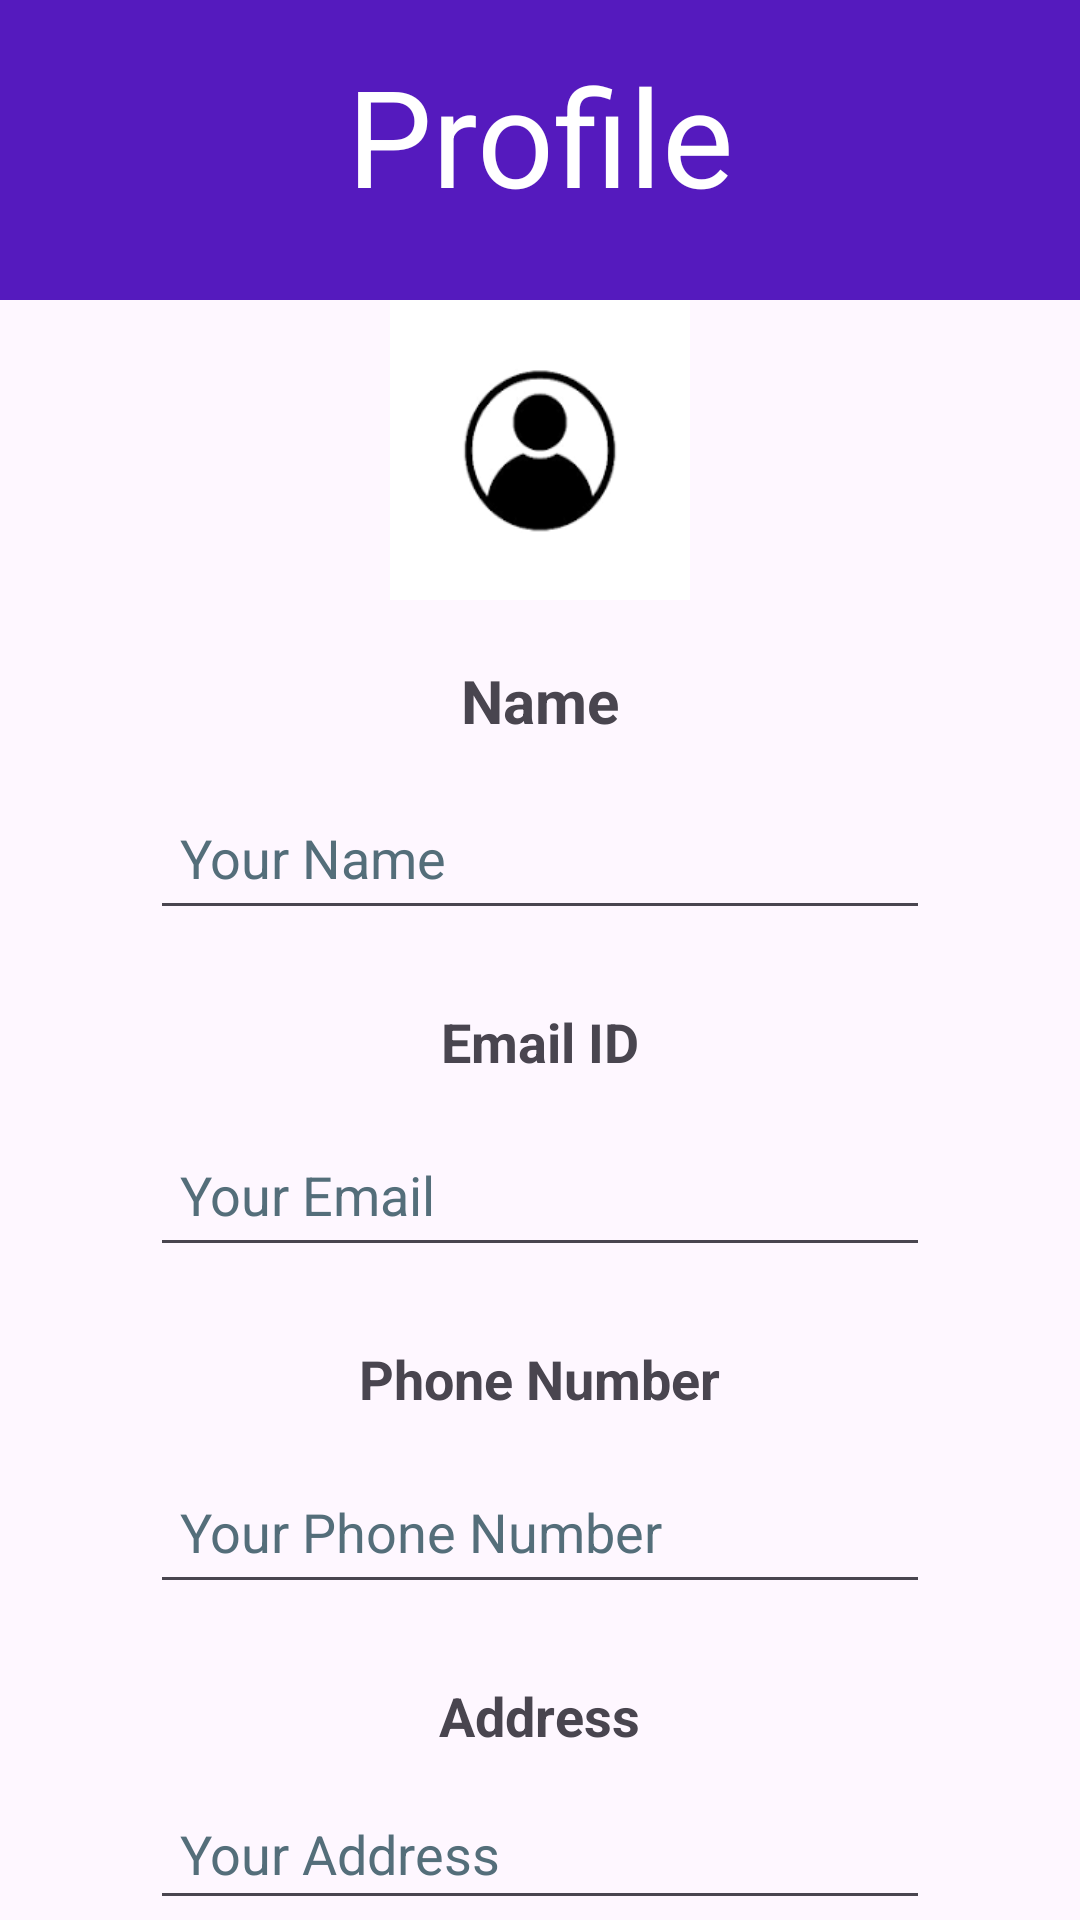

Named icons in this screenshot (1080px x 1920px) and their centers, [x,y]:
User: [540,451]
